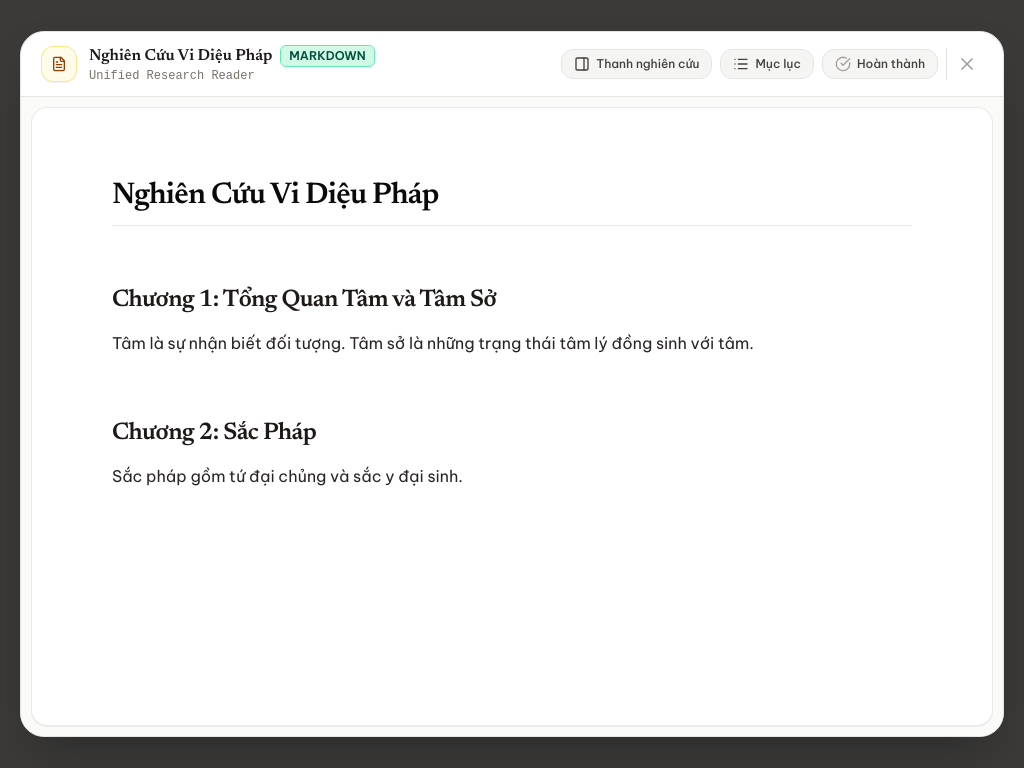
Phase R1: Reader Multi-Tab Sidebar Navigation › 2.2. switches active tab when clicking tab buttons in sidebar
Click the button with test id "reader-toggle-sidebar-btn": x=637, y=64 [561, 49, 712, 79]
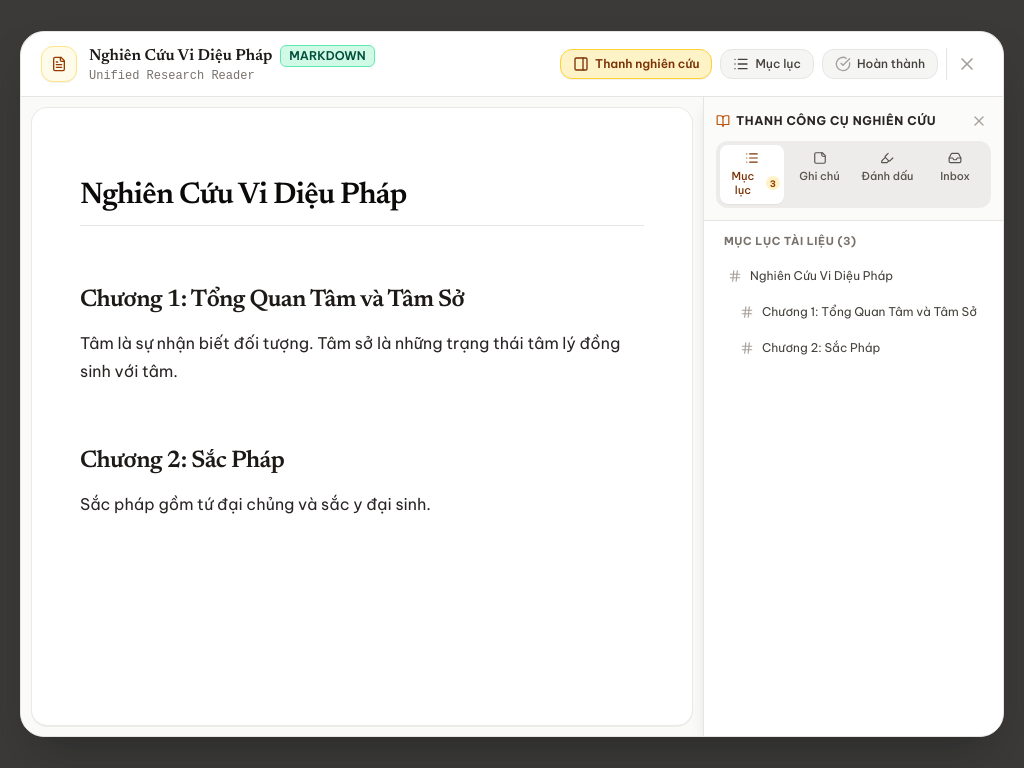
Click Highlights tab
Click the tab with test id "sidebar-tab-highlights": x=887, y=174 [856, 145, 919, 204]
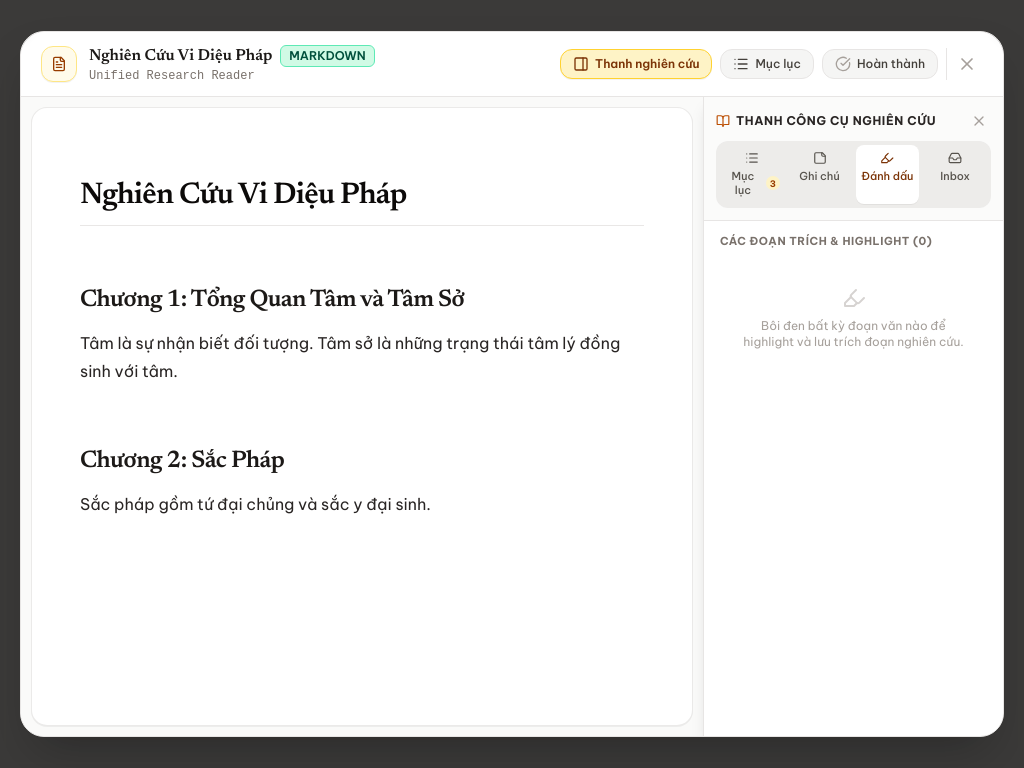
Now the element with test id "sidebar-panel-highlights" is shown, box [716, 233, 991, 374]
Click Inbox tab
Click the tab with test id "sidebar-tab-inbox": x=955, y=174 [923, 145, 987, 204]
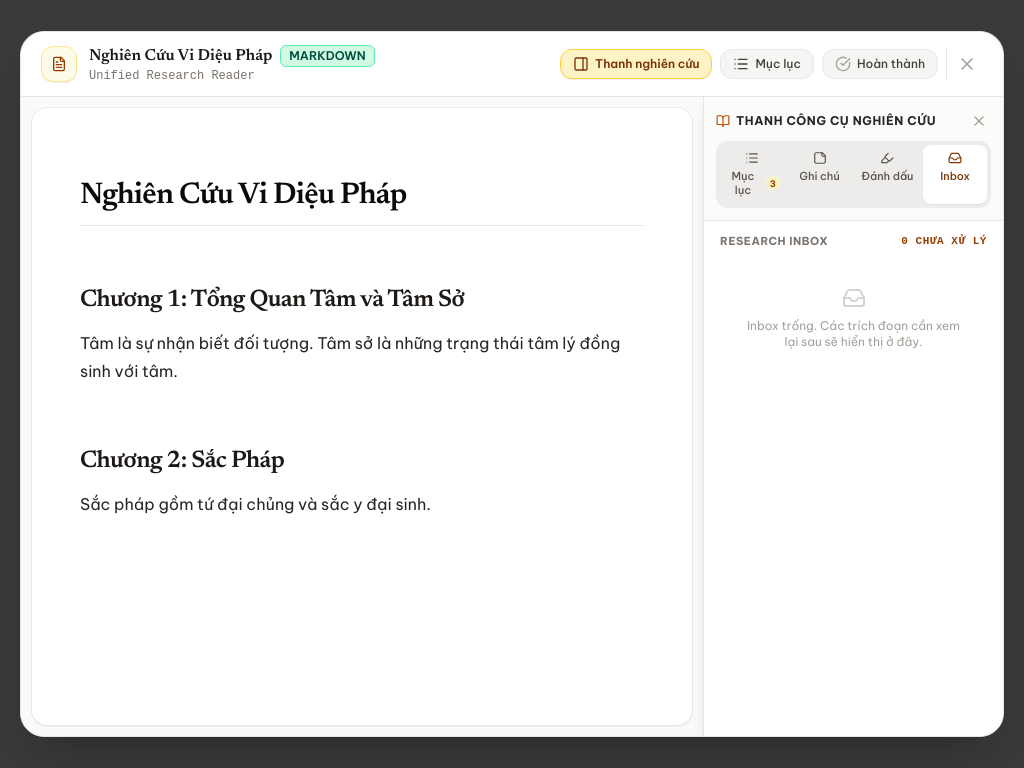
Now the element with test id "sidebar-panel-inbox" is shown, box [716, 233, 991, 374]
